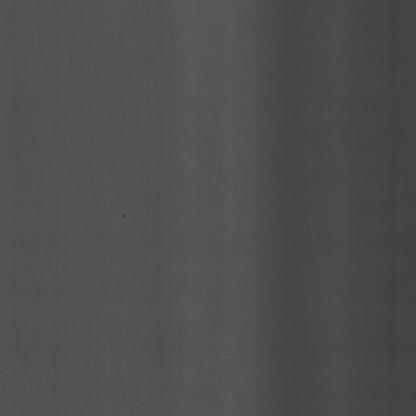inclusion: (122, 210, 126, 222)
